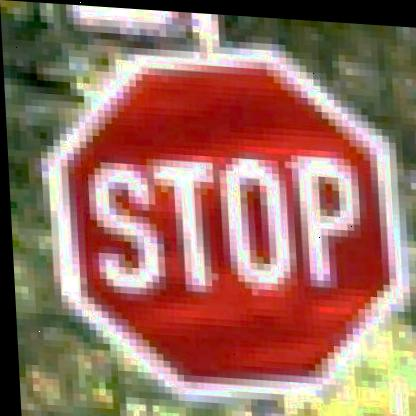Stop Sign: (37, 37, 413, 404)
